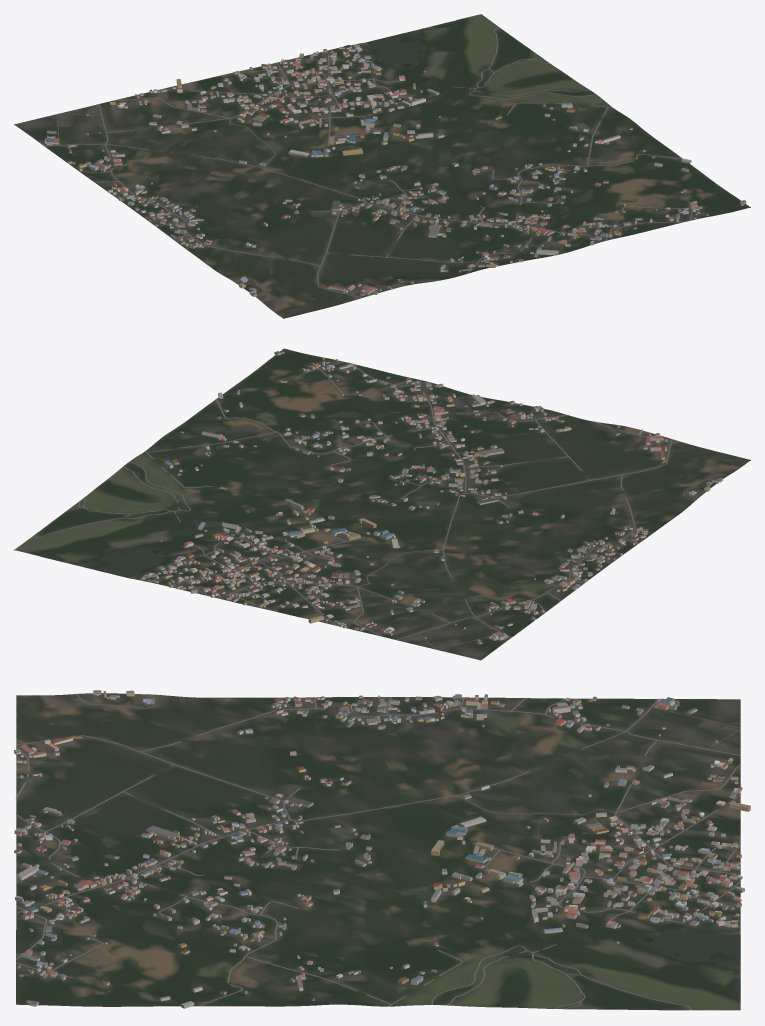
The picture shows the model from 3 angles, top to bottom: view 1: azimuth 30°, elevation 25°; view 2: azimuth 150°, elevation 25°; view 3: azimuth 270°, elevation 25°; orthographic projection. The views are drawn at different scales.
Parts seen in each view (by area): view 1: ground, buildings, roads, water; view 2: ground, buildings, roads, water; view 3: ground, buildings, roads, water.
Part boxes in pixels (<box>): ground: <box>14,14,750,318</box>; buildings: <box>44,44,746,296</box>; roads: <box>44,27,692,301</box>; water: <box>93,21,620,171</box>; ground: <box>14,348,750,660</box>; buildings: <box>142,351,723,644</box>; roads: <box>32,361,727,649</box>; water: <box>43,417,501,618</box>; ground: <box>16,693,740,1010</box>; buildings: <box>14,690,750,1008</box>; roads: <box>15,693,740,1010</box>; water: <box>209,720,739,991</box>.
Size of the model in its own units: 1415 by 34.48 by 1426.
